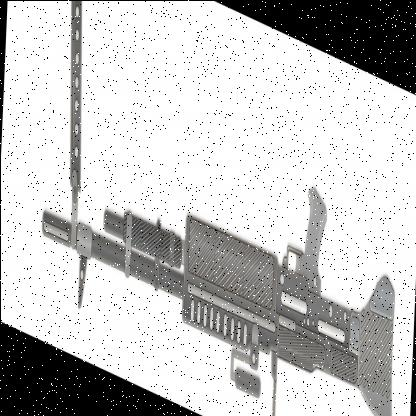rifle: (32, 55, 407, 416)
